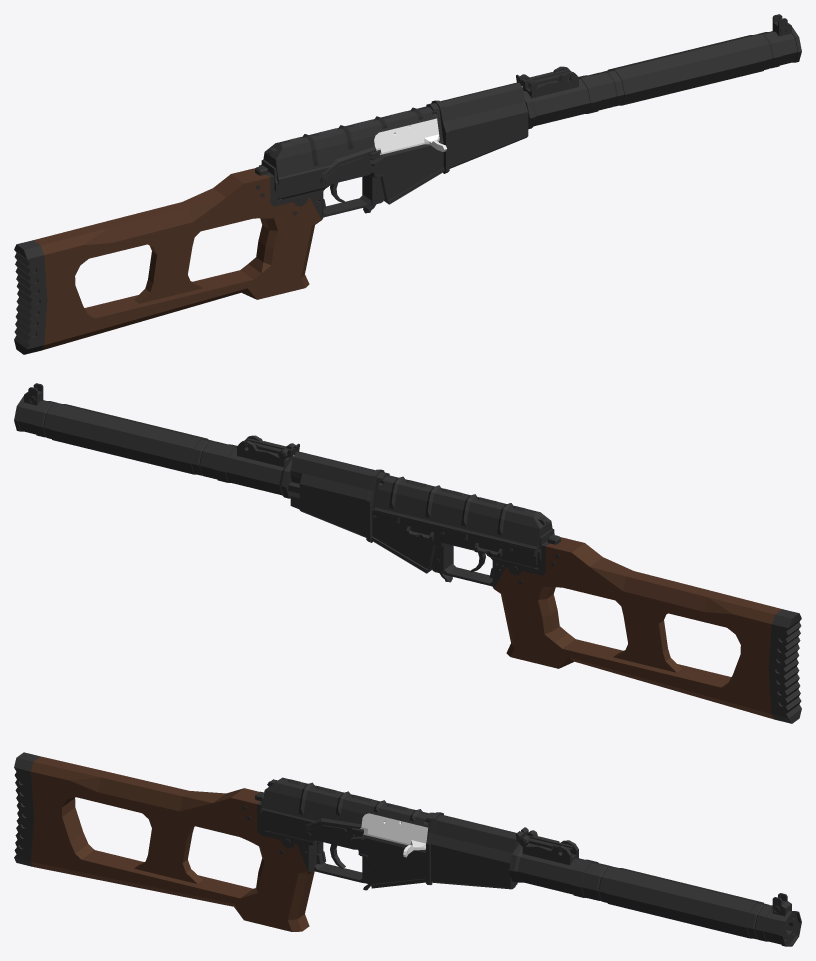
The model's file is vss_vintorez.glb.
The picture shows the model from 3 angles, top to bottom: view 1: azimuth 30°, elevation 25°; view 2: azimuth 150°, elevation 25°; view 3: azimuth 330°, elevation 25°; orthographic projection.
Visible parts, largest first — view 1: gun_4 (×4), bolt_5, save_8; view 2: gun_4 (×4); view 3: gun_4 (×4), bolt_5, save_8.
Part boxes in pixels (x1,y1,x2,y2): gun_4 (×4): [14, 14, 801, 354]; bolt_5: [374, 118, 446, 154]; save_8: [320, 150, 384, 187]; gun_4 (×4): [14, 383, 801, 723]; gun_4 (×4): [14, 752, 801, 946]; bolt_5: [360, 813, 427, 857]; save_8: [303, 823, 366, 840].
Size of the model in its own units: 8.84 by 1.66 by 0.6251.
